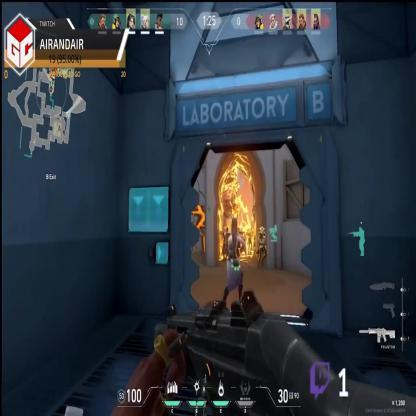enemy: (258, 228, 267, 269), (235, 228, 242, 262), (220, 227, 226, 262), (247, 226, 254, 255), (224, 228, 229, 258)
enemy_head: (260, 226, 264, 234), (221, 227, 224, 233), (249, 226, 252, 232), (226, 228, 229, 233), (237, 228, 240, 233)
